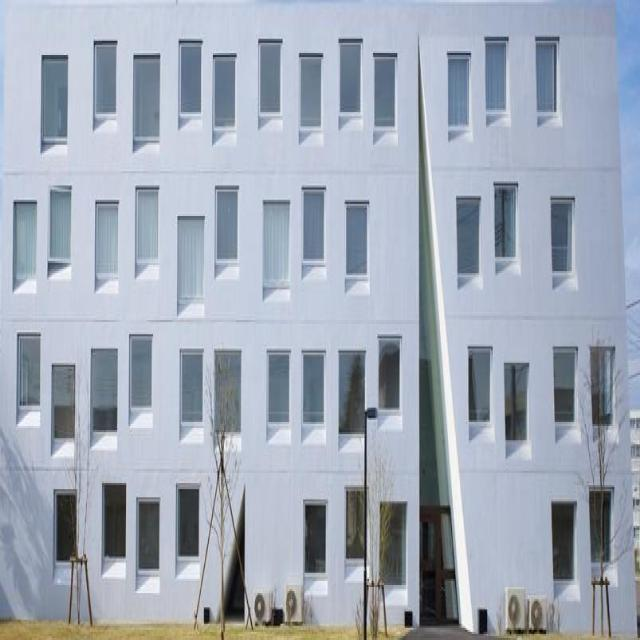door: (419, 502, 459, 625)
wall: (4, 0, 638, 630)
windows: (134, 57, 160, 142), (41, 59, 66, 142), (216, 354, 241, 437), (379, 503, 404, 582), (12, 200, 36, 282), (338, 356, 361, 437), (299, 54, 322, 132), (261, 206, 284, 284), (178, 214, 200, 294), (94, 202, 117, 278), (92, 348, 115, 424), (180, 346, 202, 424), (301, 344, 323, 422), (552, 350, 574, 425), (552, 505, 574, 580), (535, 41, 557, 115), (551, 201, 573, 275), (179, 45, 201, 117), (136, 189, 158, 261), (129, 337, 151, 409), (218, 188, 238, 267), (592, 349, 612, 426), (339, 45, 360, 117), (591, 491, 610, 570), (268, 352, 288, 426), (304, 502, 325, 572), (259, 44, 279, 117), (178, 488, 198, 561), (302, 186, 322, 258), (378, 342, 399, 409), (447, 58, 467, 128), (506, 372, 526, 442), (53, 372, 74, 438), (94, 49, 115, 114), (486, 44, 506, 112), (494, 190, 514, 258), (458, 196, 477, 267), (19, 335, 38, 406), (469, 353, 488, 424), (345, 490, 365, 557), (215, 57, 233, 131), (50, 192, 70, 258), (348, 204, 366, 268), (138, 504, 156, 568), (104, 491, 122, 555), (55, 499, 73, 563), (375, 59, 392, 123)
